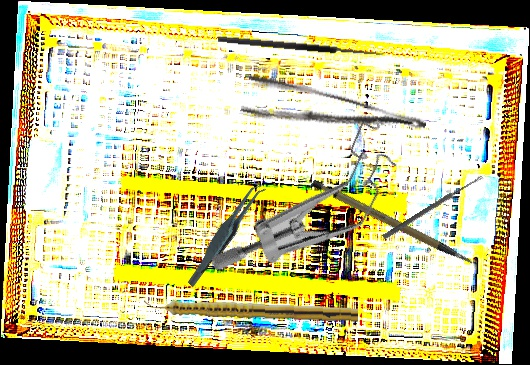Dressing Forceps: (239, 71, 428, 161)
Handpiece: (143, 296, 359, 322)
Hook Surgical: (217, 27, 386, 59)
Scalpel Handle: (309, 159, 475, 290)
Speculum: (206, 78, 416, 323)
Surgical Spoon: (382, 173, 484, 241)
Tissue Forceps: (169, 181, 283, 288)
